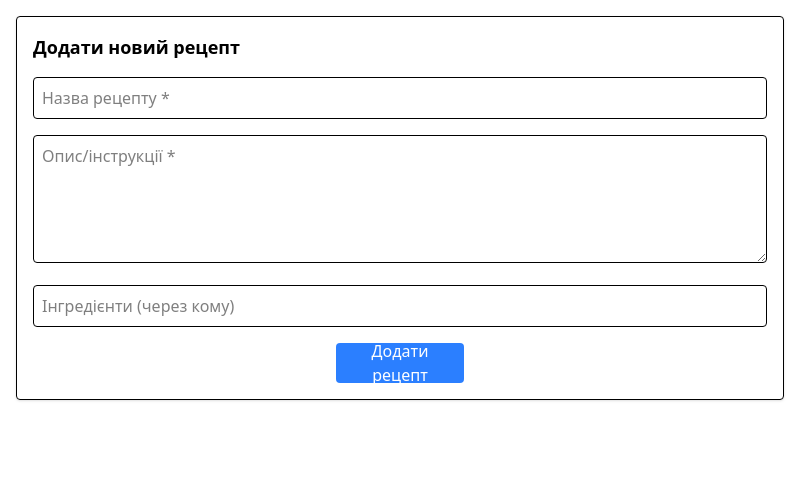
Scenario: RecipeForm › відображається повідомлення про помилку у випадку невдалої відправки
Type "Test Recipe" into the field with placeholder "Назва рецепту *".
click(400, 98); type("Test Recipe")  # box [33, 77, 767, 119]
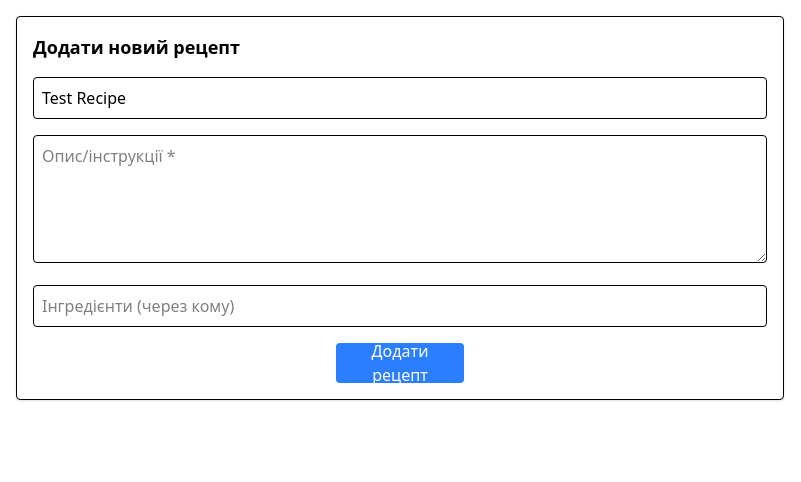
Type "Test description" into the text box with placeholder "Опис/інструкції *".
click(400, 199); type("Test description")  # box [33, 135, 767, 263]
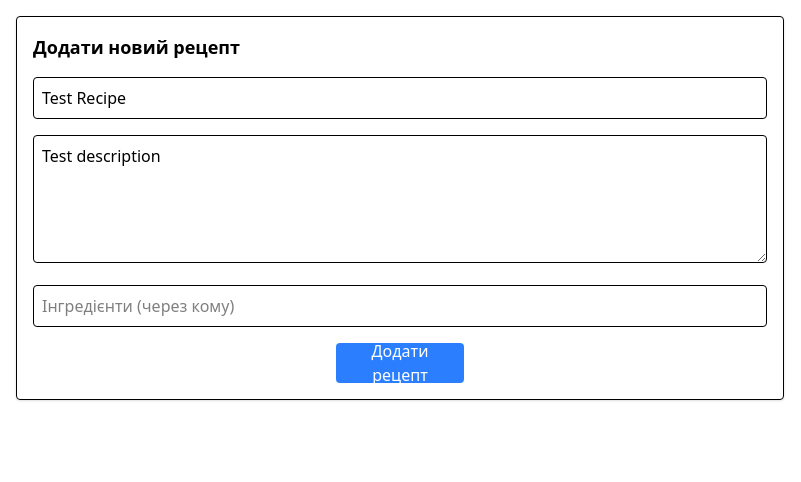
Click the button "Додати рецепт".
click(400, 363)  # box [336, 343, 464, 383]
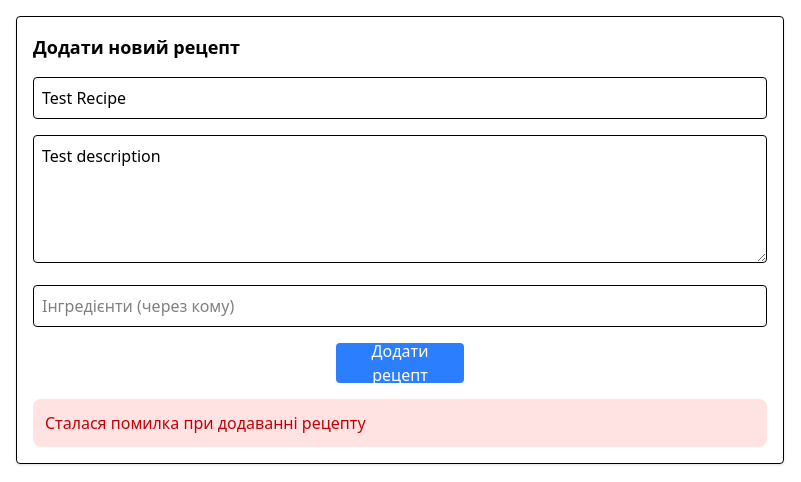
Expected: the text "Сталася помилка при додаванні рецепту" is shown, [33, 399, 767, 447]
